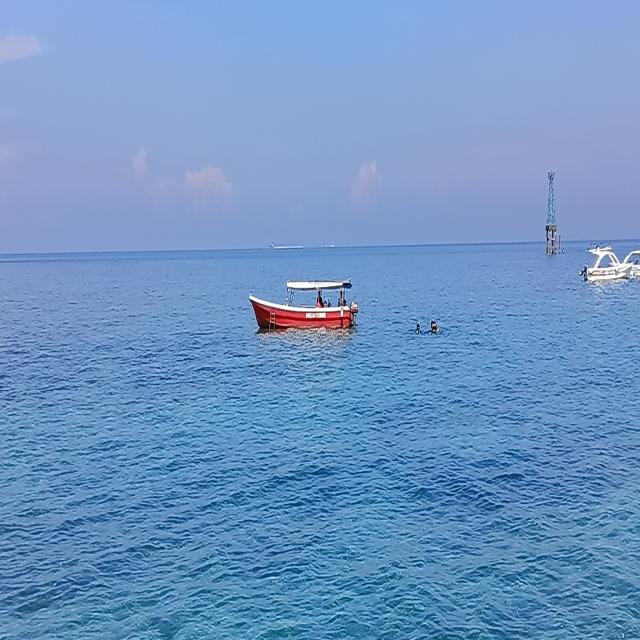Fishing Boat: (228, 237, 372, 378)
